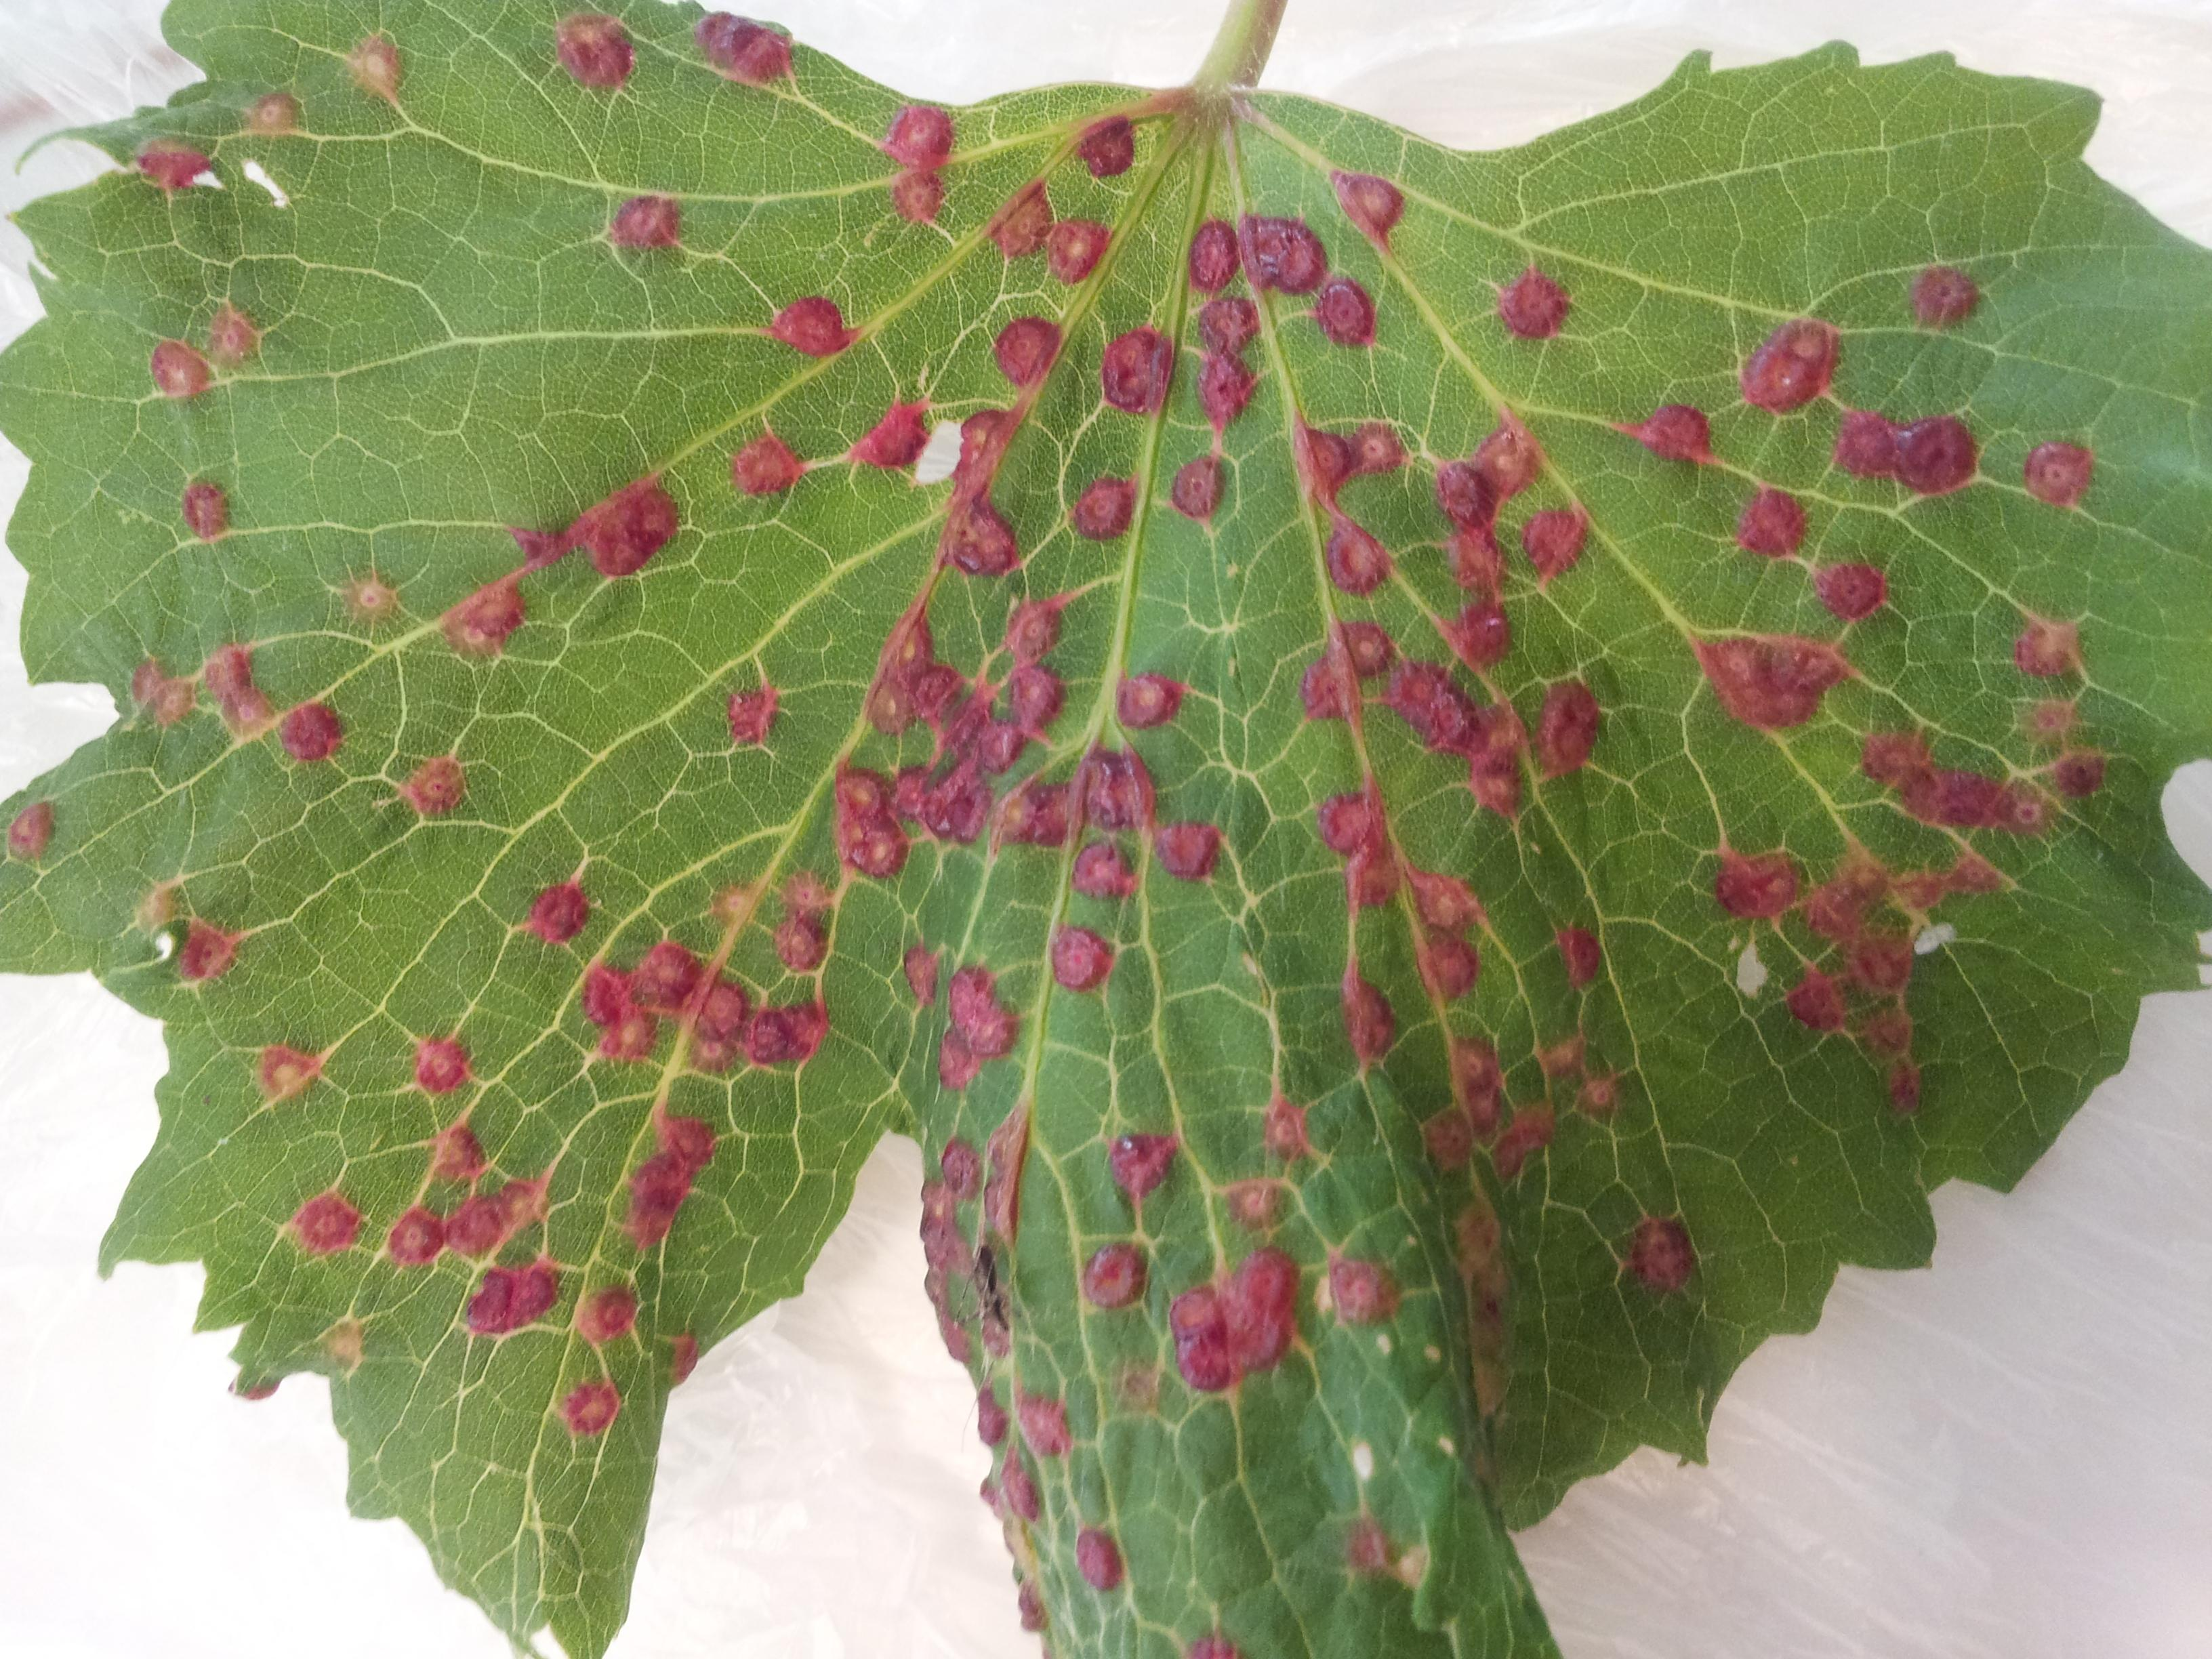grape leaf: (56, 5, 2212, 1659)
